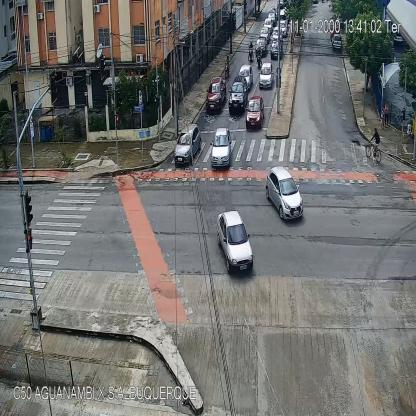bicycle: (365, 127, 381, 164)
car: (218, 211, 254, 274), (265, 166, 304, 222), (174, 124, 200, 163), (210, 126, 233, 168), (206, 77, 226, 115), (229, 75, 247, 117), (247, 98, 266, 127), (259, 63, 273, 87), (270, 41, 284, 61), (256, 38, 268, 56), (277, 20, 287, 39), (260, 26, 270, 39), (264, 17, 273, 31), (333, 34, 342, 48), (268, 11, 276, 24)
motorbike: (248, 40, 253, 64), (225, 55, 229, 75)
person: (384, 102, 390, 126), (380, 104, 385, 129)
